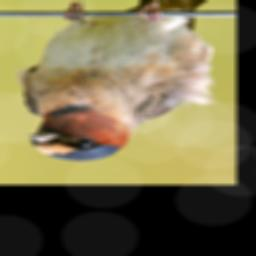Swallow: (15, 0, 219, 162)
